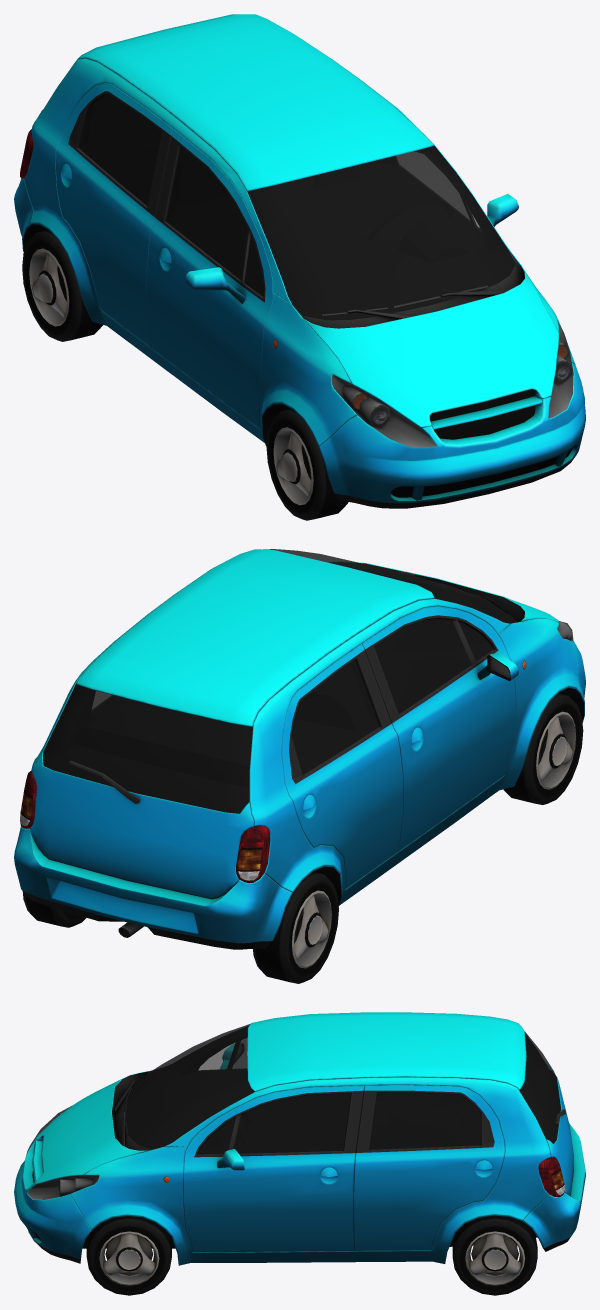
File: Compact.obj
3 renders of one model, top to bottom at view 1: azimuth 30°, elevation 25°; view 2: azimuth 150°, elevation 25°; view 3: azimuth 270°, elevation 25°, orthographic. The views are drawn at different scales.
Visible parts, largest first — view 1: Compact_Body_Mesh.014, Wheel_C003_Mesh.013, Wheel_C002_Mesh.012; view 2: Compact_Body_Mesh.014, Wheel_C002_Mesh.012, Wheel_C003_Mesh.013, Wheel_C001_Mesh.011; view 3: Compact_Body_Mesh.014, Wheel_C001_Mesh.011, Wheel_C_Mesh.010.
Boxes of the visible parts, <box> form: Compact_Body_Mesh.014: <box>14,14,585,508</box>; Wheel_C003_Mesh.013: <box>266,409,348,520</box>; Wheel_C002_Mesh.012: <box>22,229,102,341</box>; Compact_Body_Mesh.014: <box>14,549,585,949</box>; Wheel_C002_Mesh.012: <box>253,872,338,983</box>; Wheel_C003_Mesh.013: <box>503,693,583,804</box>; Wheel_C001_Mesh.011: <box>22,891,86,927</box>; Compact_Body_Mesh.014: <box>14,1012,585,1265</box>; Wheel_C001_Mesh.011: <box>452,1215,537,1295</box>; Wheel_C_Mesh.010: <box>86,1216,171,1295</box>.
Bounding box in the file's own units: 1.81 × 1.48 × 3.66.
4 materials, 3 textured.
